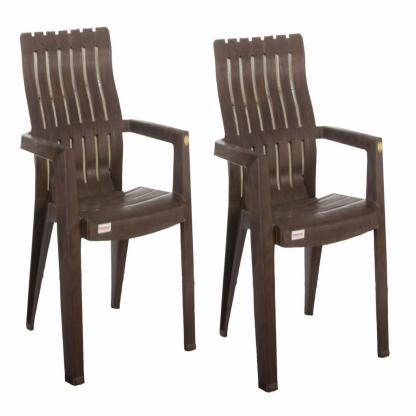chair: (208, 28, 397, 396), (21, 26, 208, 387)
